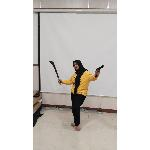Golok: (46, 57, 66, 86)
Pistol: (92, 62, 106, 80)
